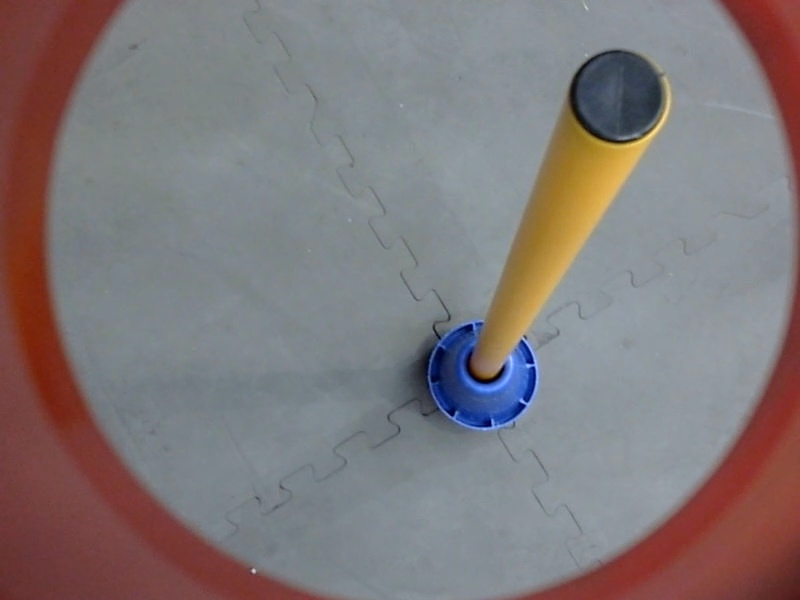tip: (564, 46, 673, 151)
